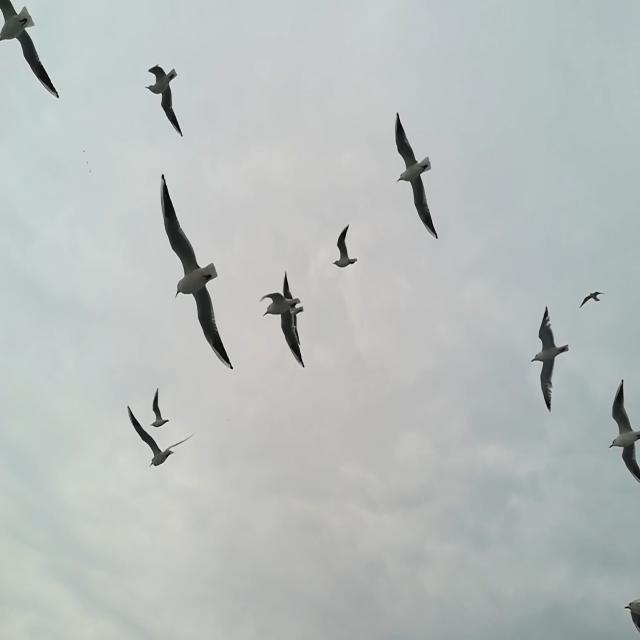bird: (158, 176, 231, 374), (1, 3, 61, 100), (394, 113, 438, 241), (531, 307, 571, 414), (128, 407, 194, 468), (260, 289, 306, 367), (609, 377, 640, 491), (143, 62, 183, 138), (279, 272, 304, 354), (334, 225, 355, 269), (622, 598, 640, 638), (152, 388, 169, 427), (579, 290, 604, 310)
